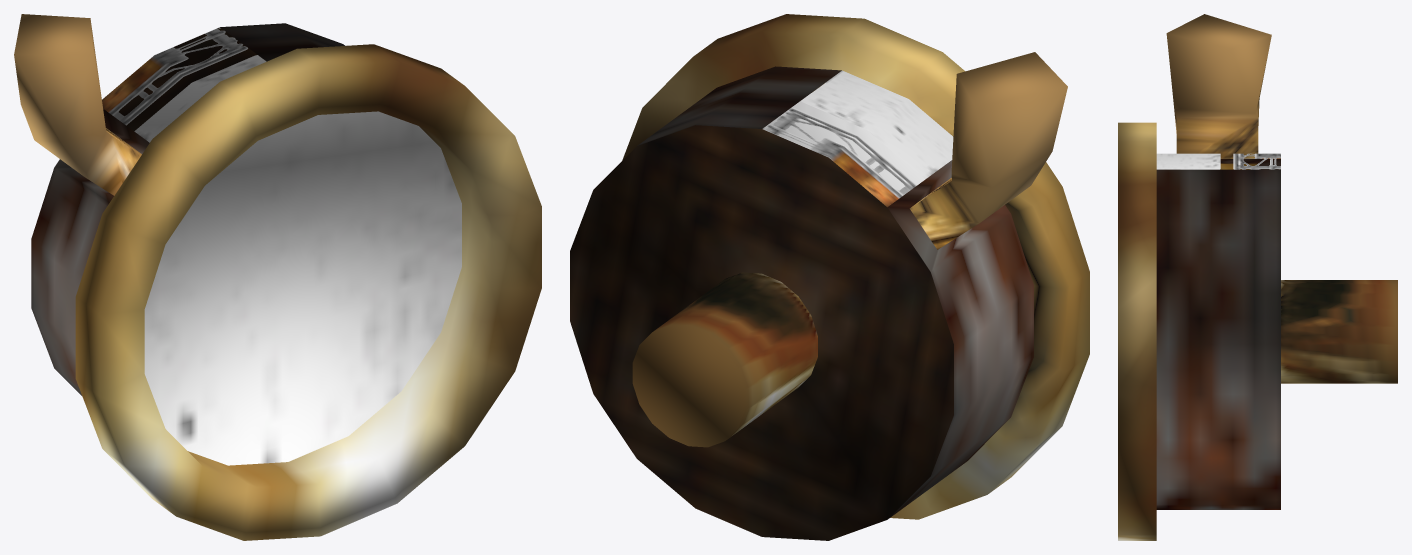
The model's file is Speedometr.fbx.
3 views of the same model, side by side, from view 1: azimuth 30°, elevation 25°; view 2: azimuth 150°, elevation 25°; view 3: azimuth 270°, elevation 25° (orthographic). The views are drawn at different scales.
Parts seen in each view (by area): view 1: cLOCK; view 2: cLOCK; view 3: cLOCK.
Part boxes in pixels (x1=…): cLOCK: x1=14, y1=14, x2=541, y2=540; cLOCK: x1=570, y1=14, x2=1089, y2=540; cLOCK: x1=1118, y1=14, x2=1397, y2=540.
Size of the model in its own units: 105 by 108 by 66.5.
